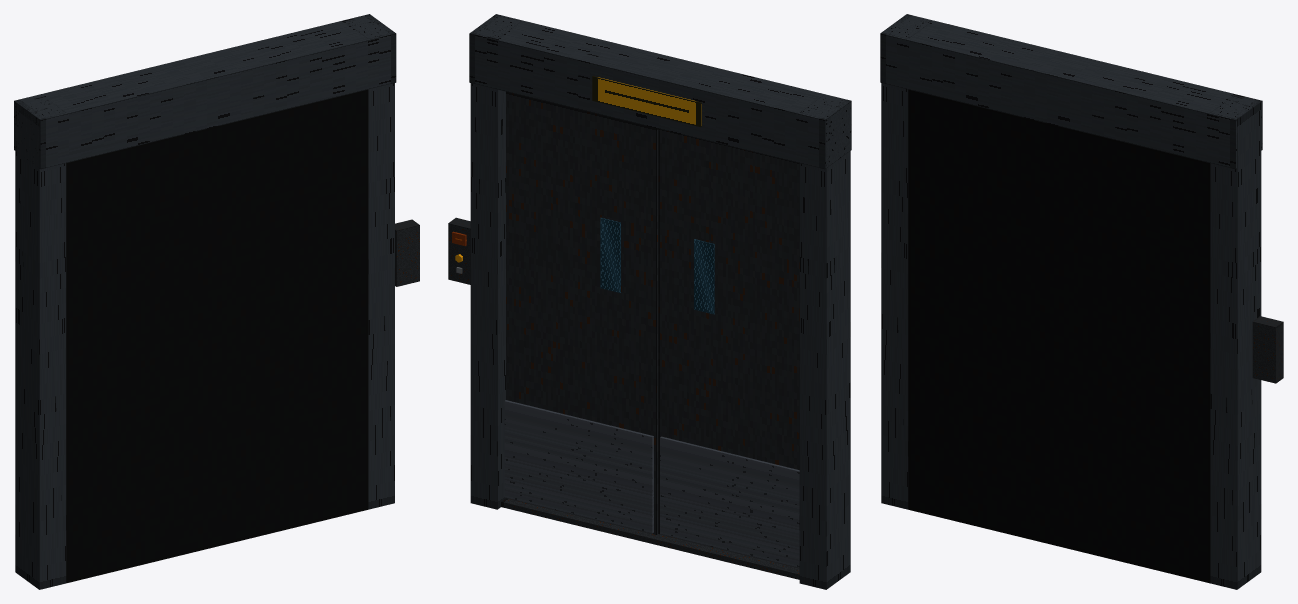
File: service_lift_door.glb
3 views of the same model, side by side, from view 1: azimuth 30°, elevation 25°; view 2: azimuth 150°, elevation 25°; view 3: azimuth 330°, elevation 25° (orthographic).
Parts seen in each view (by area): view 1: service_lift_door; view 2: service_lift_door; view 3: service_lift_door.
Boxes of the visible parts, x1,y1,x2,y2 form: service_lift_door: (14,14,419,589); service_lift_door: (448,14,851,589); service_lift_door: (880,14,1283,589).
Size of the model in its own units: 2.31 by 2.68 by 0.28.
1 material, 1 textured.
